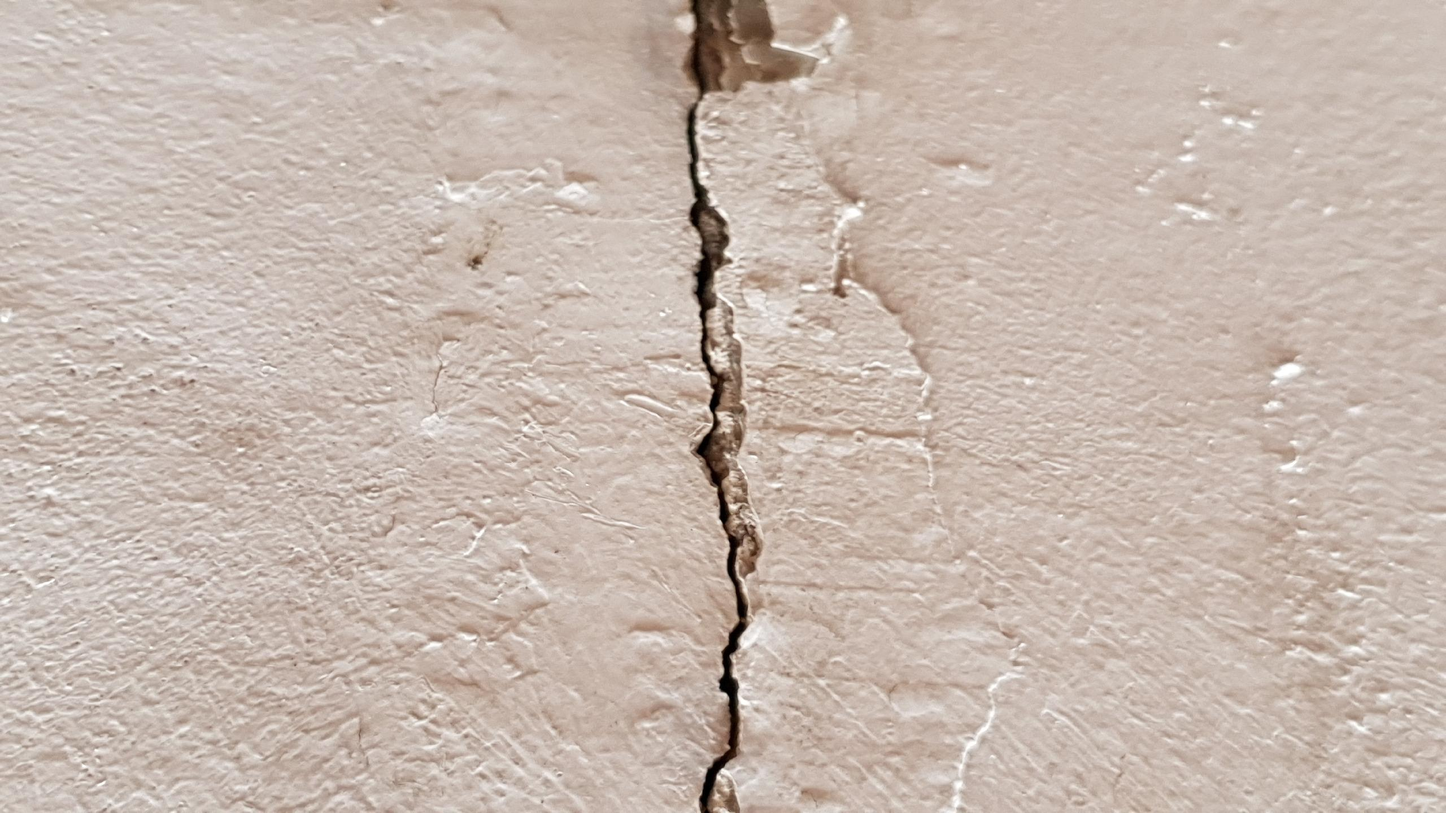crack: (687, 1, 749, 812)
